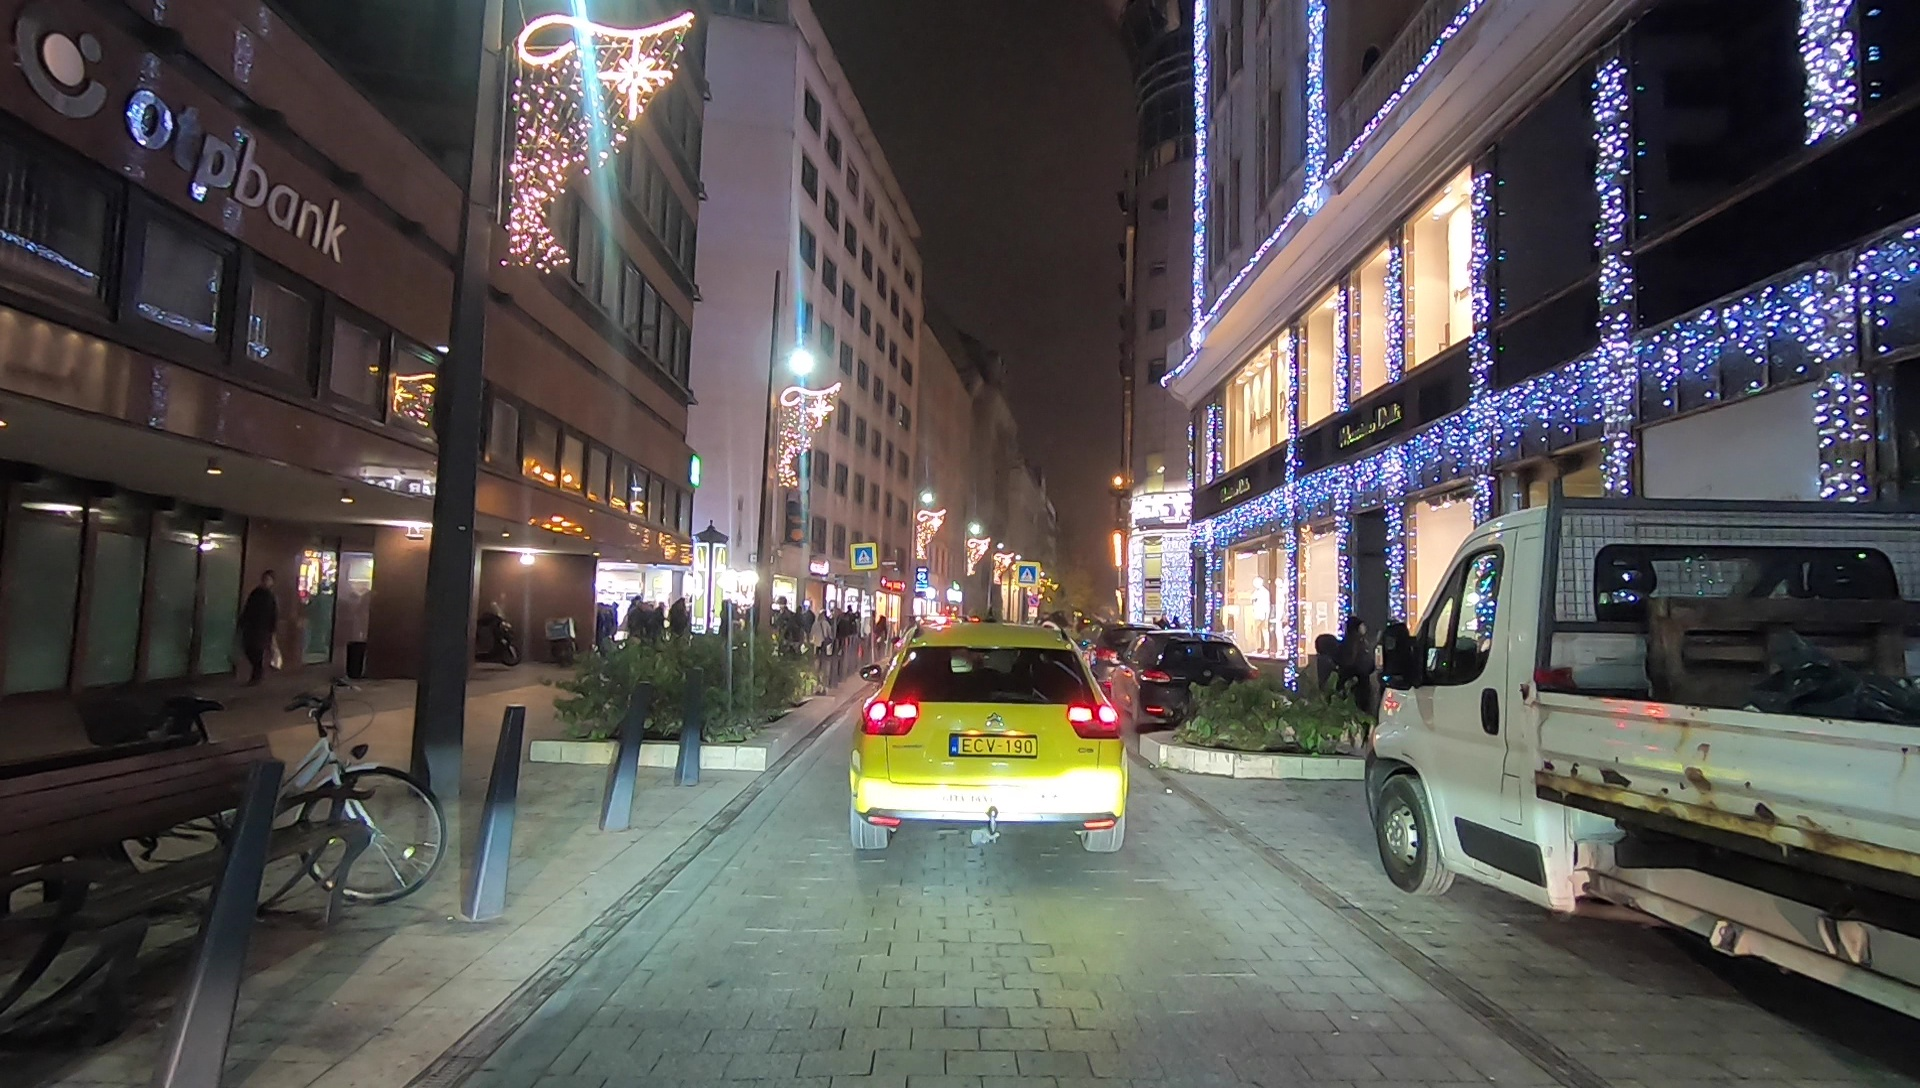person: (239, 565, 284, 691)
